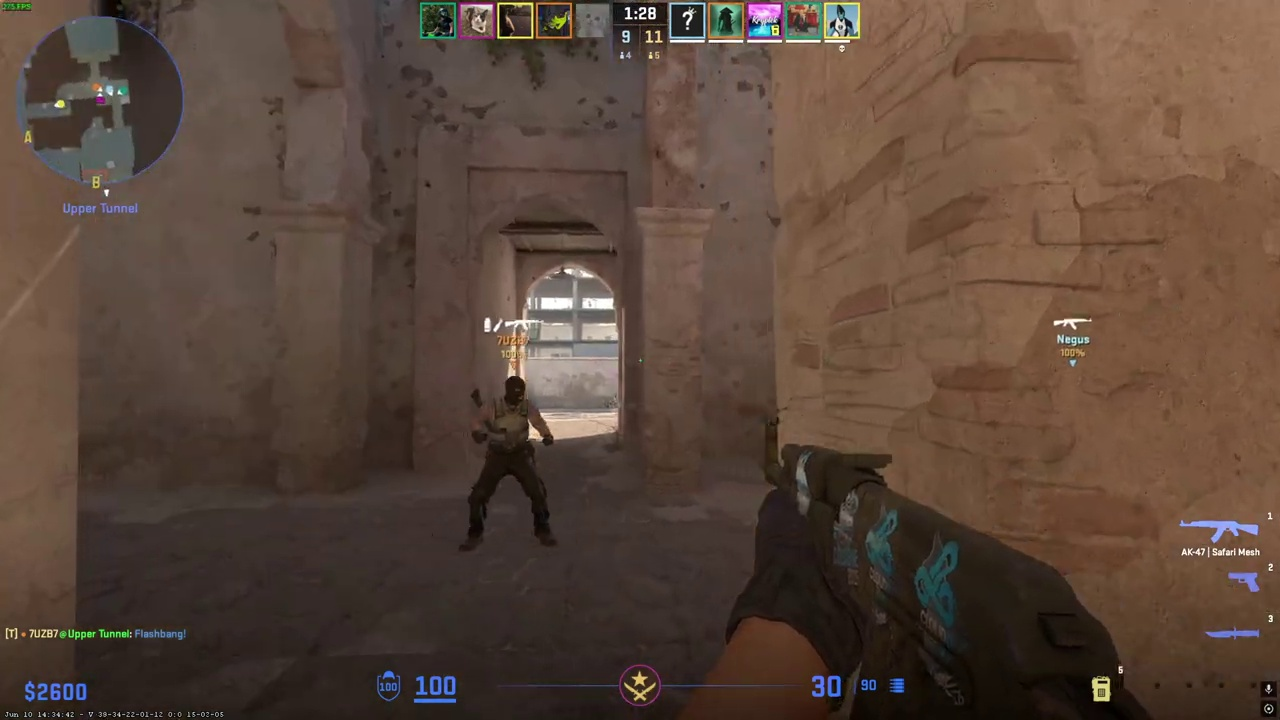Terrorist: (462, 376, 554, 552)
